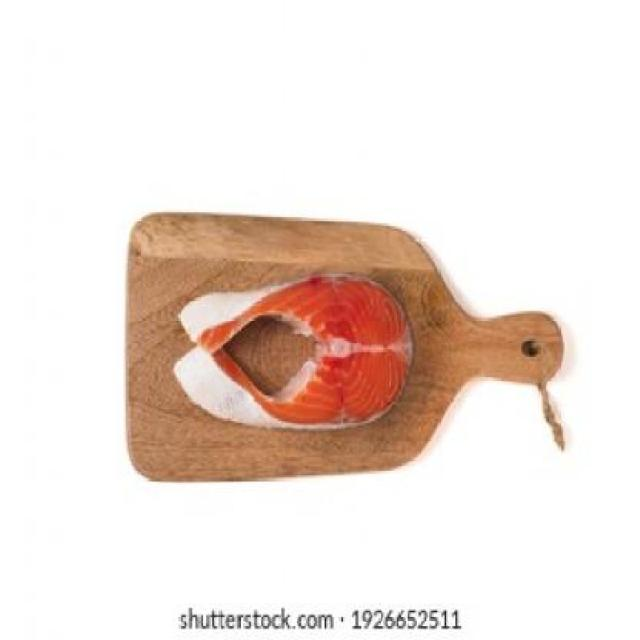salmon: (156, 254, 412, 439)
